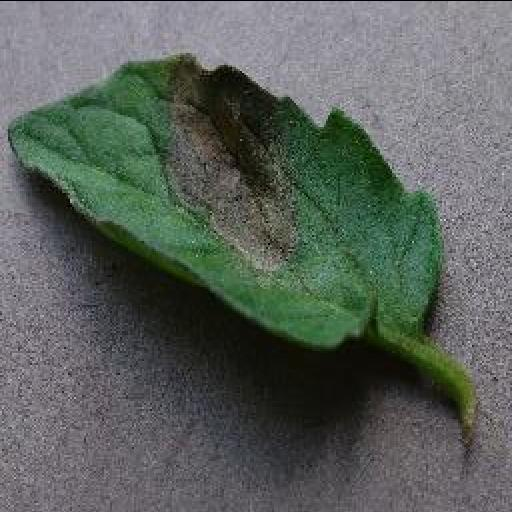disease_tomato: (6, 50, 448, 350)
